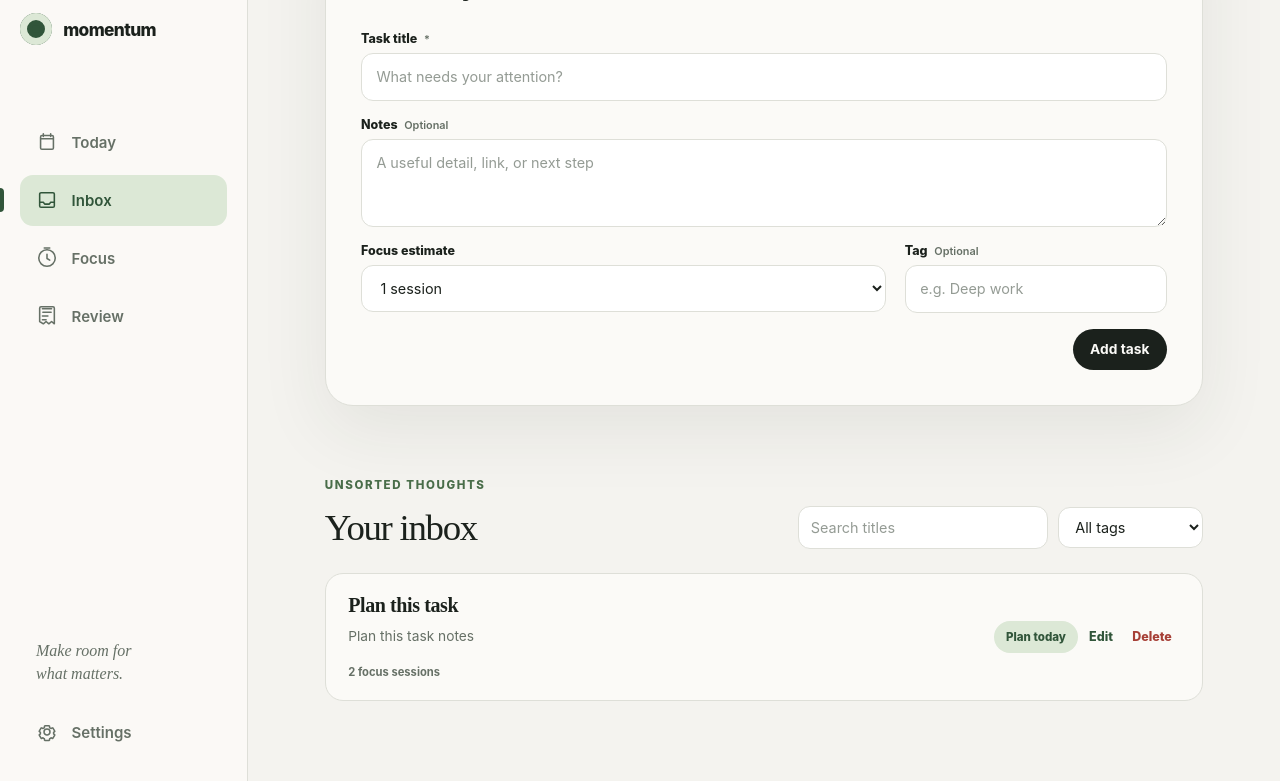
Scenario: Inbox workspace › moves an Inbox task into today's persisted plan
(page scrolled)
What coordinates should you click on to do the following:
click the button with aria-label "Plan Plan this task for today"
I would click on:
 (1036, 637)
Its box is [994,621,1078,653].
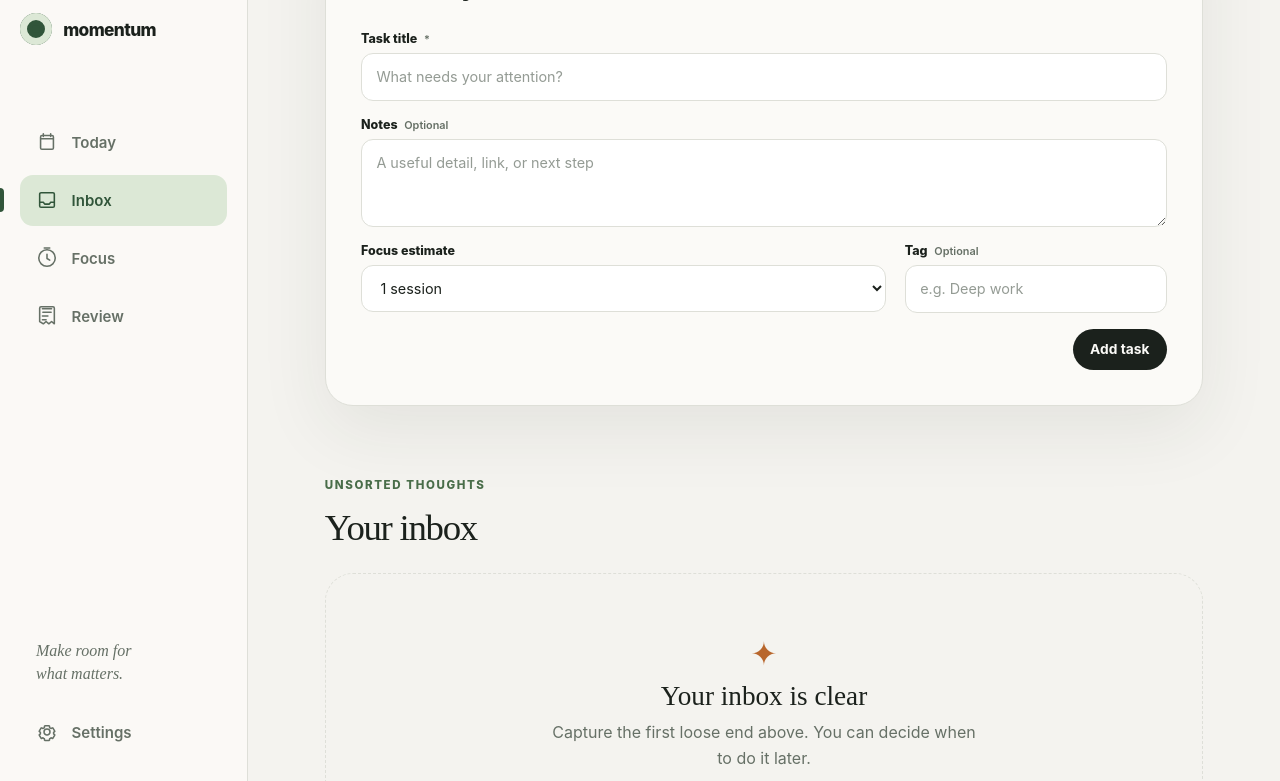
Expected: the heading "Plan this task" is gone
